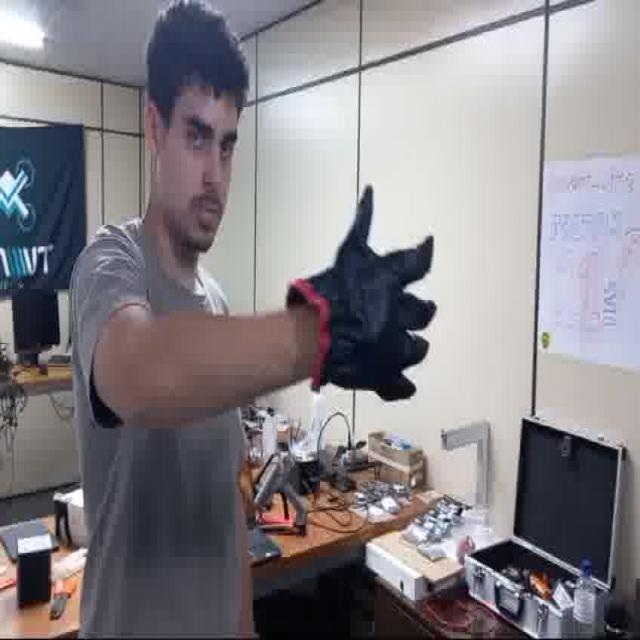Gloves: (304, 172, 443, 409)
